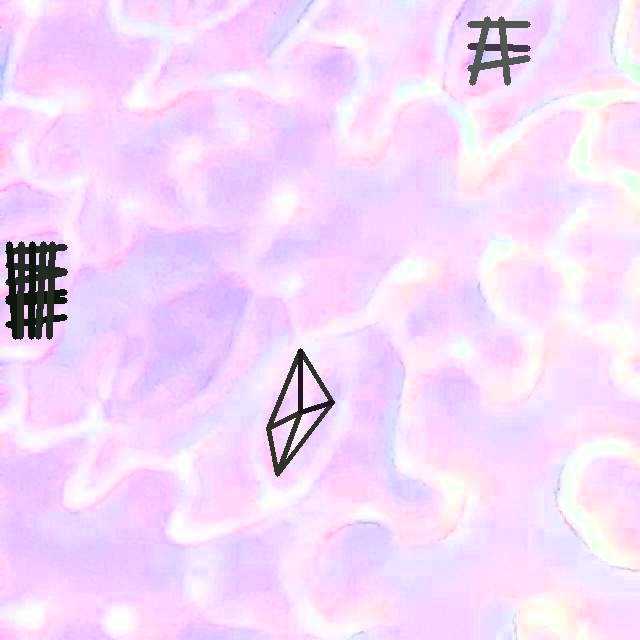close: (267, 349, 333, 476)
open: (5, 241, 67, 339), (467, 16, 530, 85)
